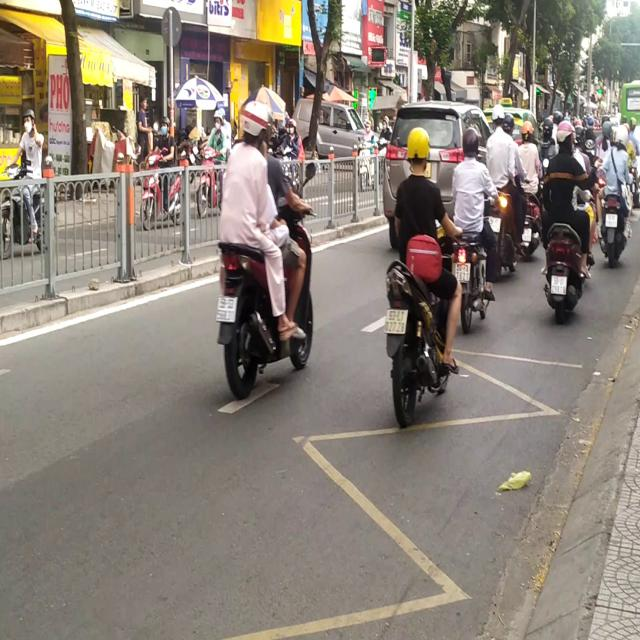bien_trang: (385, 308, 407, 335), (216, 295, 236, 323), (550, 274, 566, 298), (457, 262, 470, 282)
